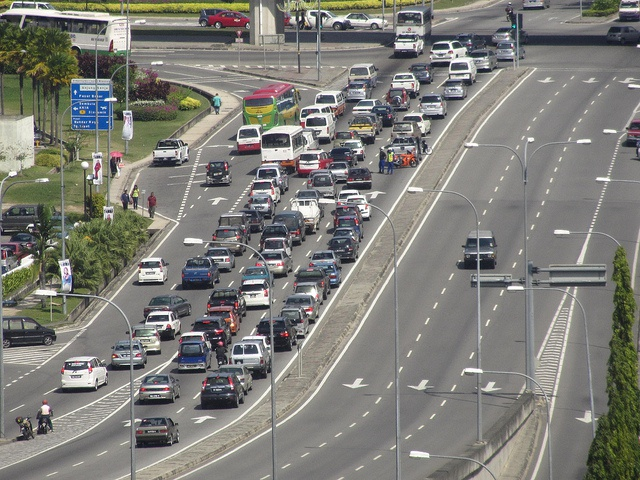non-vehicle: (15, 415, 34, 440), (392, 152, 416, 167), (37, 411, 49, 434), (215, 350, 227, 367), (420, 140, 432, 154), (505, 10, 512, 21)
